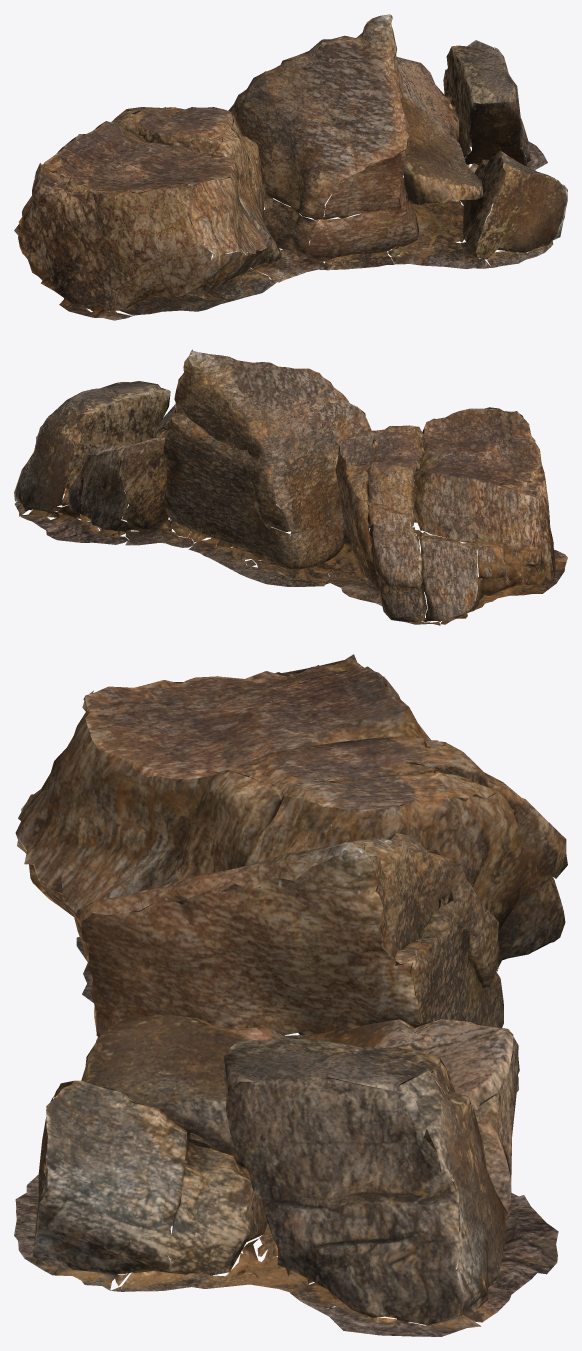
Rendered from kaya_yassi.gltf.
The picture shows the model from 3 angles, top to bottom: view 1: azimuth 30°, elevation 25°; view 2: azimuth 150°, elevation 25°; view 3: azimuth 270°, elevation 25°; orthographic projection. The views are drawn at different scales.
Visible parts, largest first — view 1: kaya_yassi; view 2: kaya_yassi; view 3: kaya_yassi.
Boxes of the visible parts, x1=… form: kaya_yassi: x1=14, y1=14, x2=567, y2=320; kaya_yassi: x1=14, y1=349, x2=567, y2=625; kaya_yassi: x1=14, y1=654, x2=567, y2=1336.
Size of what is drawn, in the model's own units: 2.52 by 0.8801 by 1.23.
Materials: 1 (1 with a texture image).
